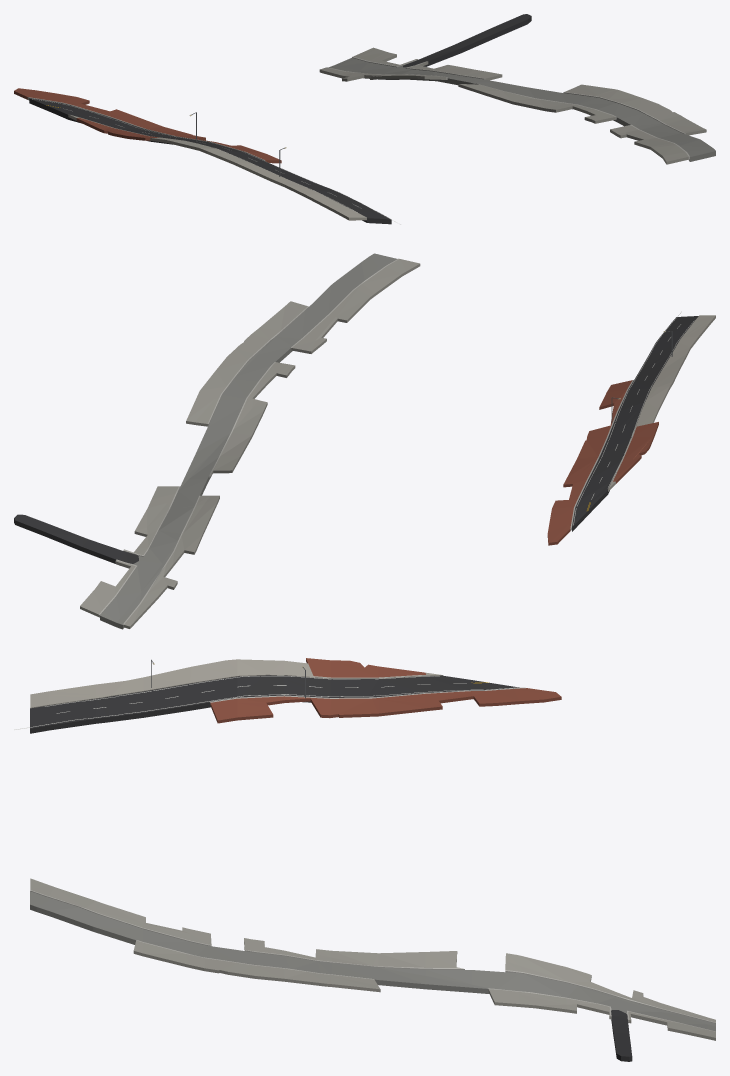
The picture shows the model from 3 angles, top to bottom: view 1: azimuth 30°, elevation 25°; view 2: azimuth 150°, elevation 25°; view 3: azimuth 270°, elevation 25°; orthographic projection. The views are drawn at different scales.
Bounding box in the file's own units: 140 × 48.58 × 149.
